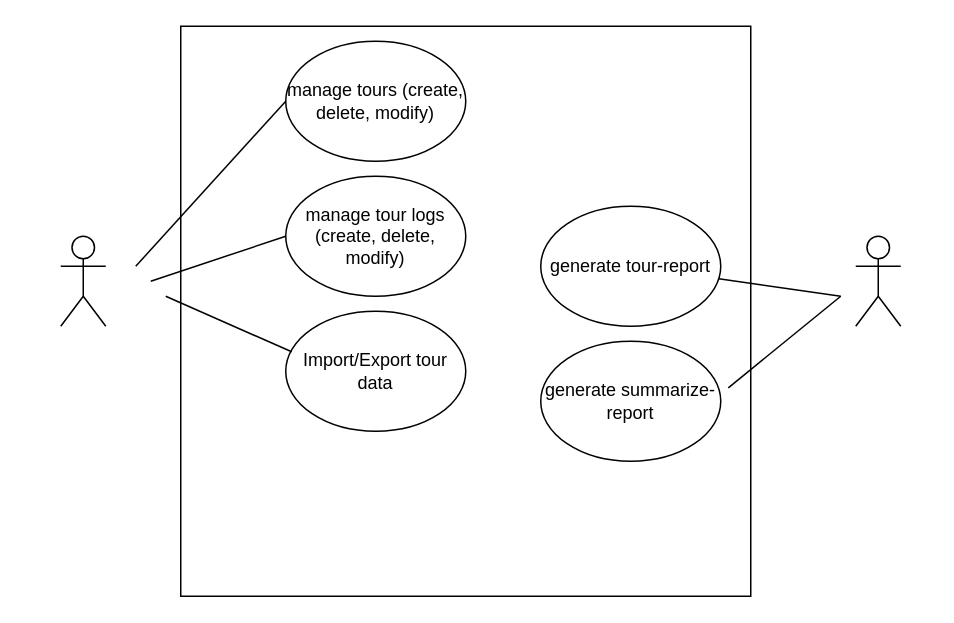
Image size: 954x623. Some labels were removed from this diagram. The shapes that lost their labels are listed below. From the top down, each one's box as (x1, y1, x2, y2) in pixels, then its label:
(59, 235, 106, 326): Standard User
(854, 235, 901, 326): Data Analyst
